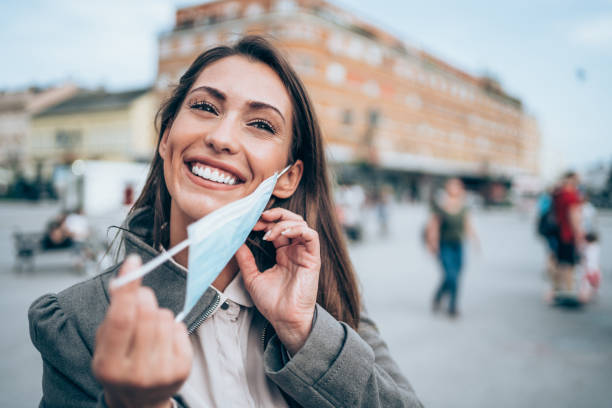without mask: (155, 42, 289, 223)
